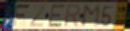5: (100, 5, 115, 27)
E: (47, 4, 66, 29)
F: (11, 4, 31, 29)
M: (81, 4, 102, 28)
R: (62, 3, 82, 29)
Z: (29, 4, 47, 28)
